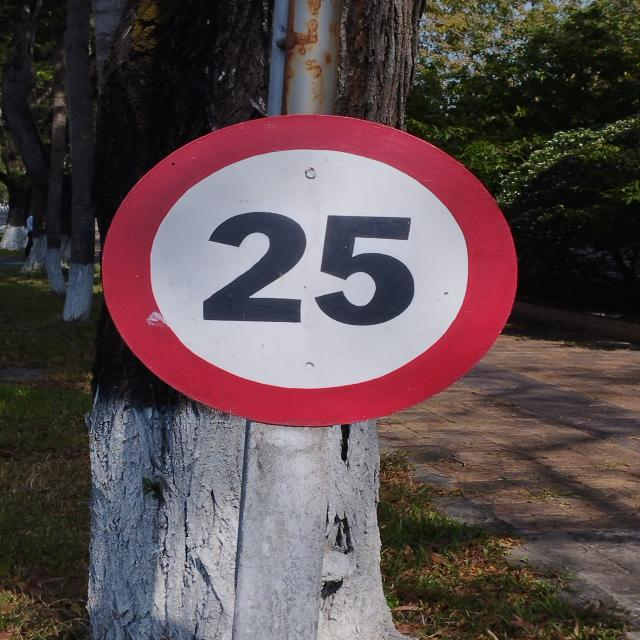Tre_Em: (100, 114, 519, 428)
